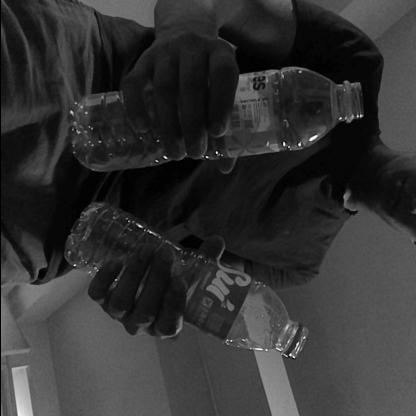plastic_bottles: (62, 208, 310, 358), (67, 66, 365, 177)
